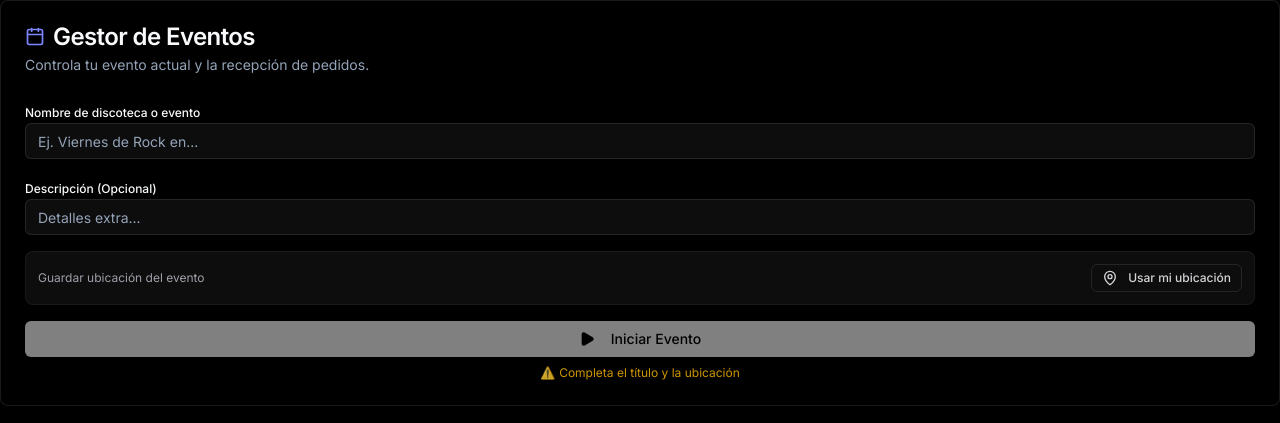
Test case: EventManager › shows 'Ingresa un título' warning when location is set but title is empty
Expected: the heading "Gestor de Eventos" is shown, [25,22,255,51]
Click the button "Usar mi ubicación".
click(1167, 278)  # box [1091,264,1242,292]
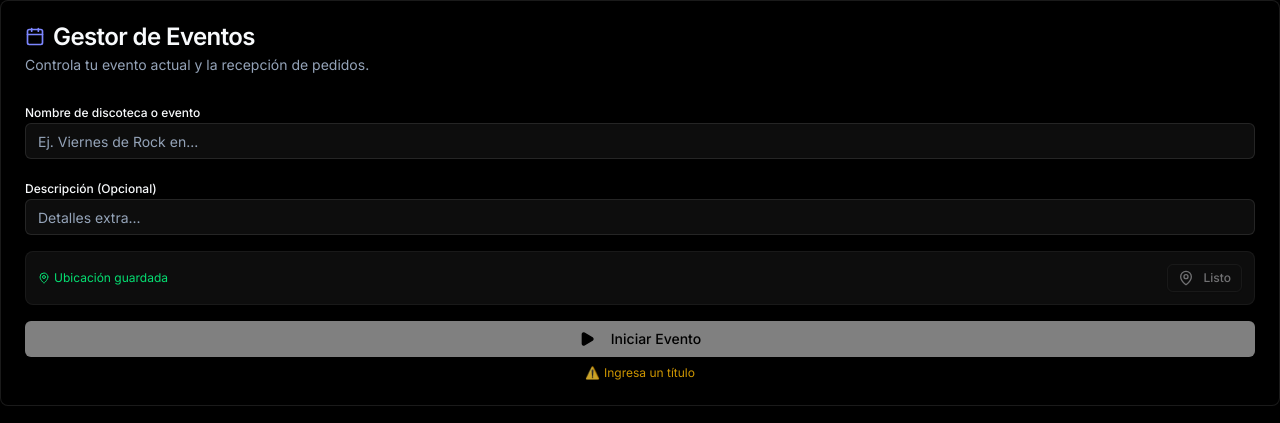
Expected: the text "Ingresa un título" is shown, [604,365,695,380]
